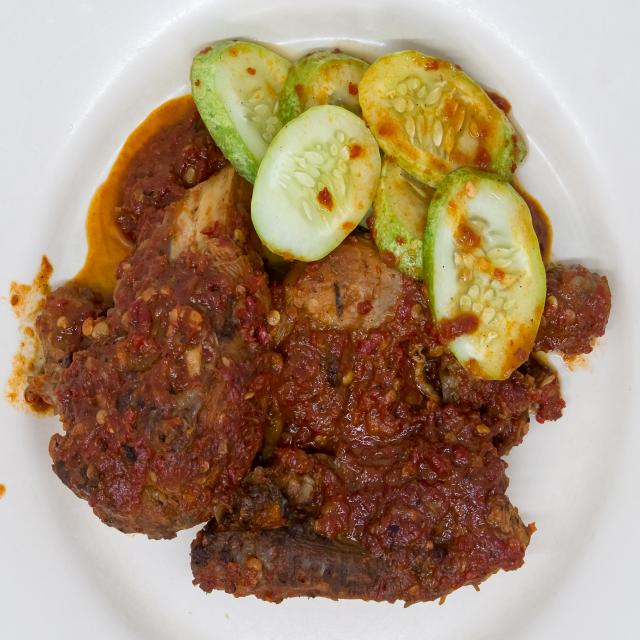Ayam-Bumbu-Rujak: (48, 72, 567, 618)
